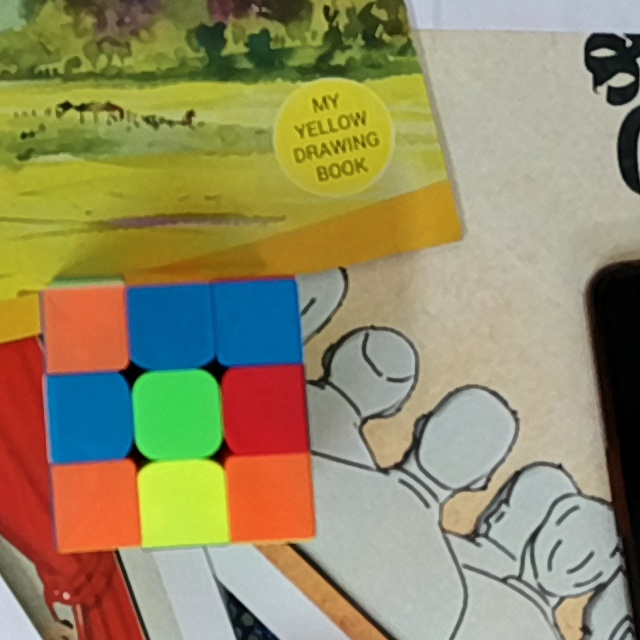tile: (51, 378, 123, 453), (216, 288, 294, 357), (145, 469, 220, 539), (233, 461, 306, 532), (48, 293, 122, 363), (228, 376, 302, 446), (58, 470, 131, 539), (140, 381, 213, 449), (134, 294, 207, 356)
